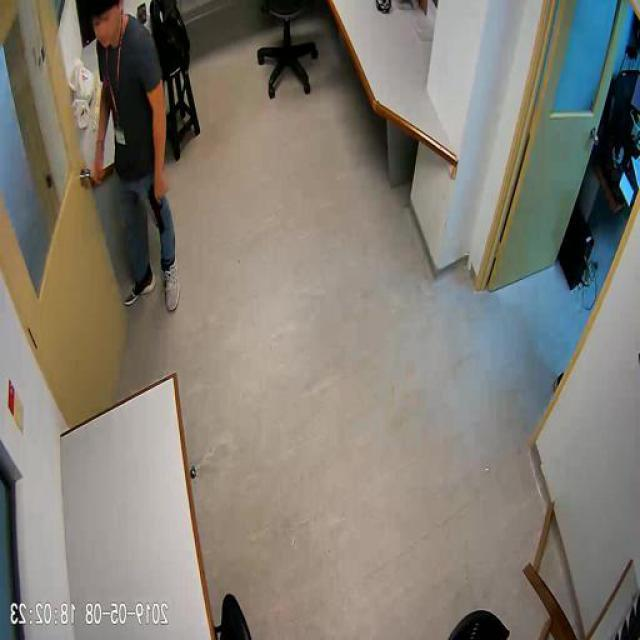Gun: (150, 178, 170, 232)
